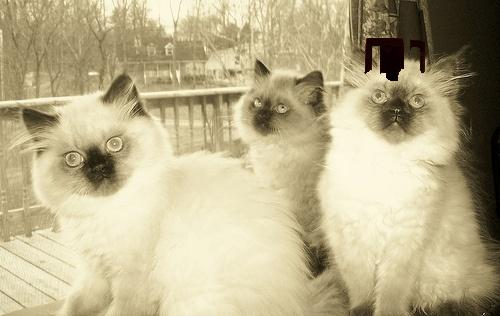tampered: (365, 39, 425, 81)
